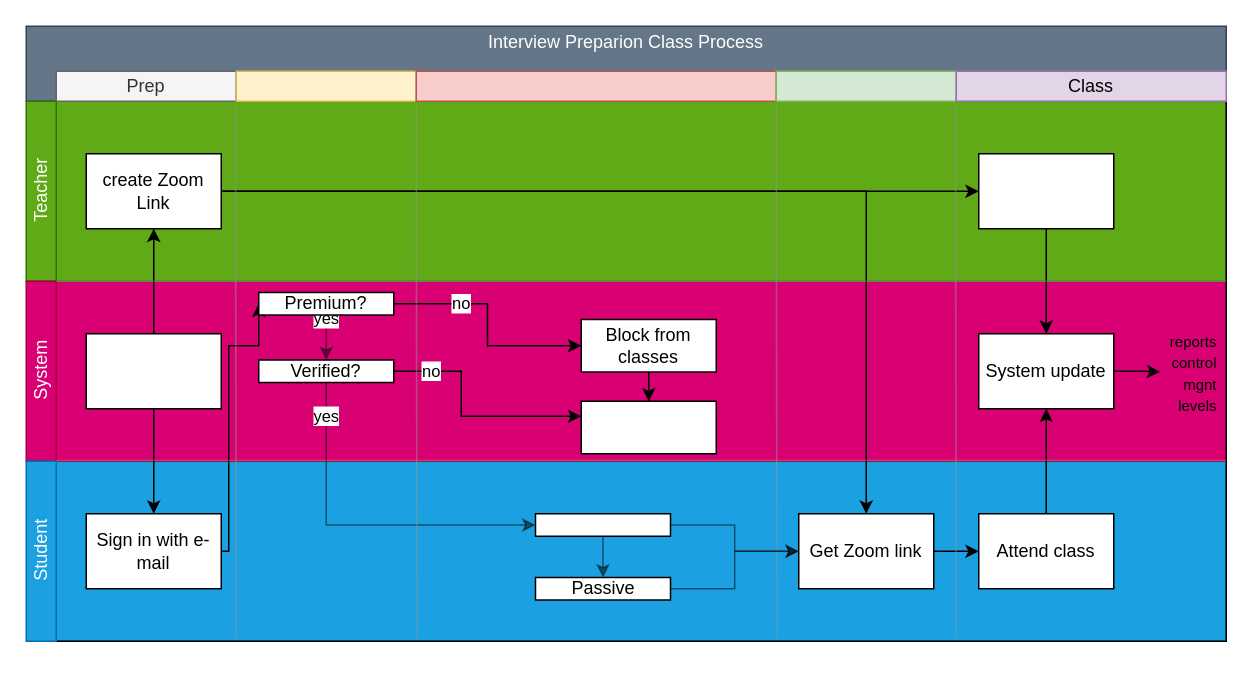
Image size: 1254x674. Some labels were removed from this diagram. Each missing label, with the centre of its shape:
"Access" belongs at point 865,85.
"Active" belongs at point 602,524.
"create event" belongs at point 153,370.
"Decision" belongs at point 595,85.
"Give class" belongs at point 1045,190.
"Send email" belongs at point 648,427.
"Verification" belongs at point 325,85.
